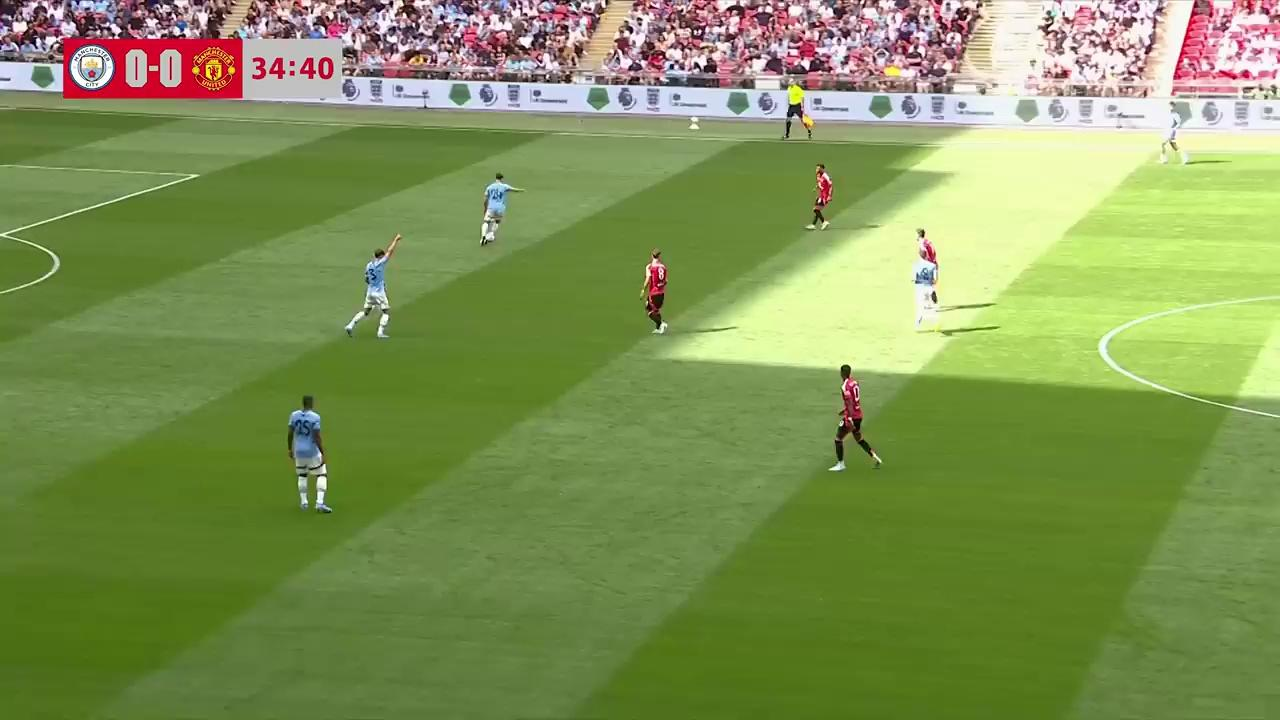ball: (484, 228, 499, 246)
player: (828, 364, 882, 472), (287, 394, 331, 512), (344, 242, 395, 340), (480, 172, 517, 245), (912, 247, 941, 331), (640, 249, 667, 333), (915, 228, 940, 310), (805, 163, 832, 231), (1159, 108, 1189, 165)
referee: (783, 80, 812, 140)
